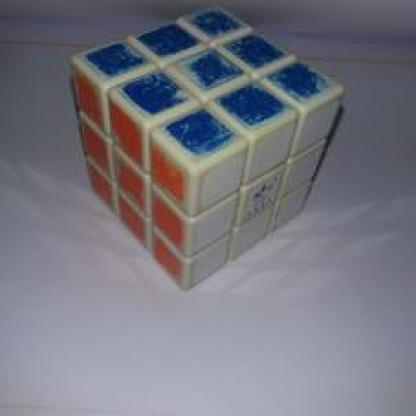cube: (76, 9, 346, 280)
